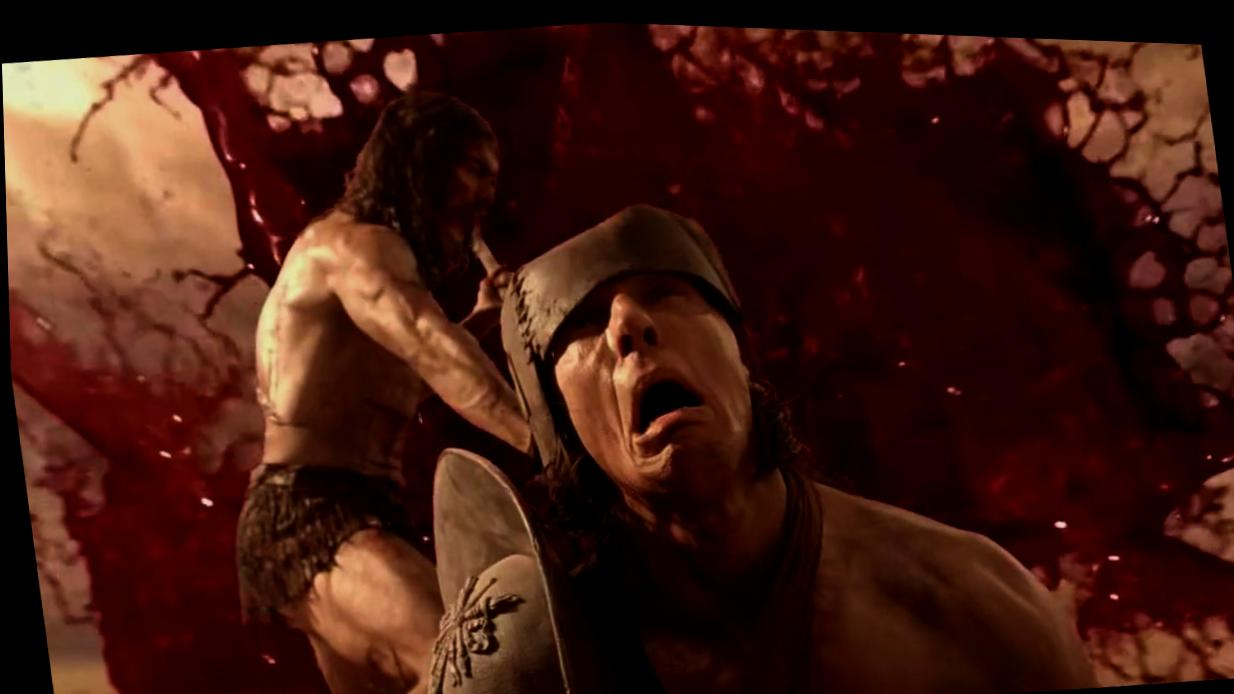Fire: (1, 17, 1234, 694)
